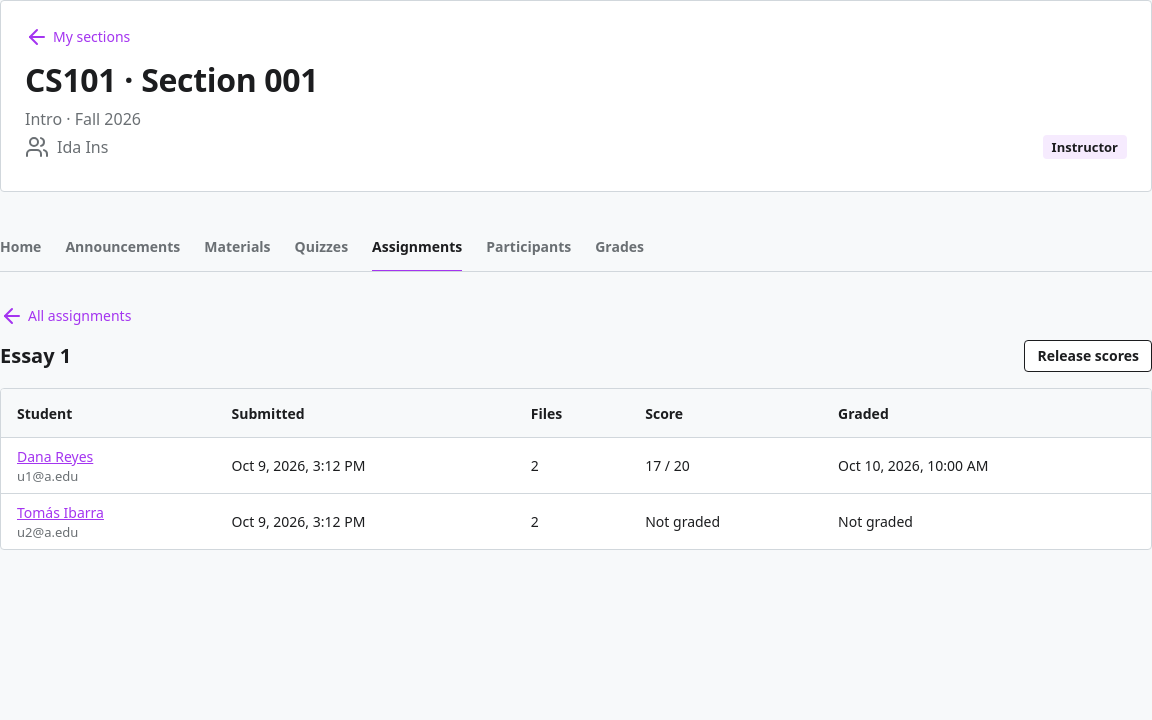
Test: Release dialog notes how many are ungraded
This screenshot has width=1152, height=720.
Click the button with aria-label "Release scores for Essay 1".
click(1088, 356)  # box [1024, 340, 1151, 372]
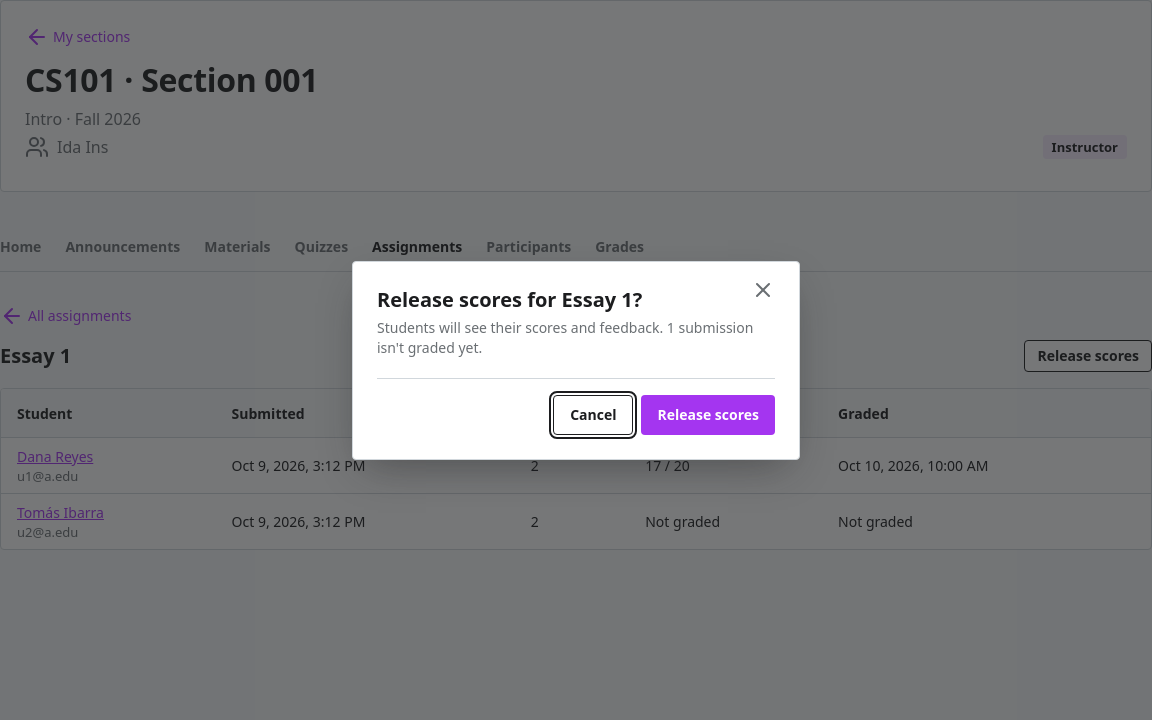
Check: the text "1 submission isn't graded yet." is shown, box [377, 318, 753, 356]
